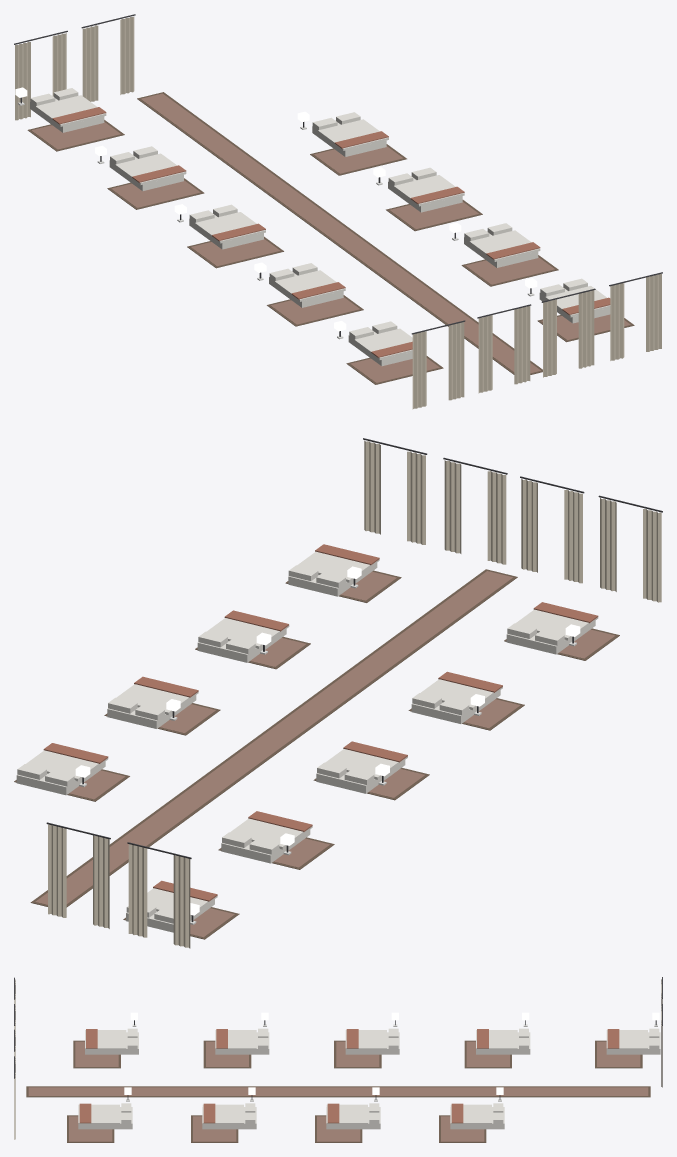
Rendered from fine-s2.glb.
3 views of the same model, one above another, from view 1: azimuth 30°, elevation 25°; view 2: azimuth 150°, elevation 25°; view 3: azimuth 270°, elevation 25° (orthographic). The views are drawn at different scales.
Parts seen in each view (by area): view 1: soft-s2; view 2: soft-s2; view 3: soft-s2.
Boxes of the visible parts, box(x1,y1,x2,y2) form: soft-s2: box(14, 14, 662, 409); soft-s2: box(14, 438, 662, 948); soft-s2: box(14, 977, 662, 1142).
Bounding box in the file's own units: 8.66 × 2.5 × 23.16.
